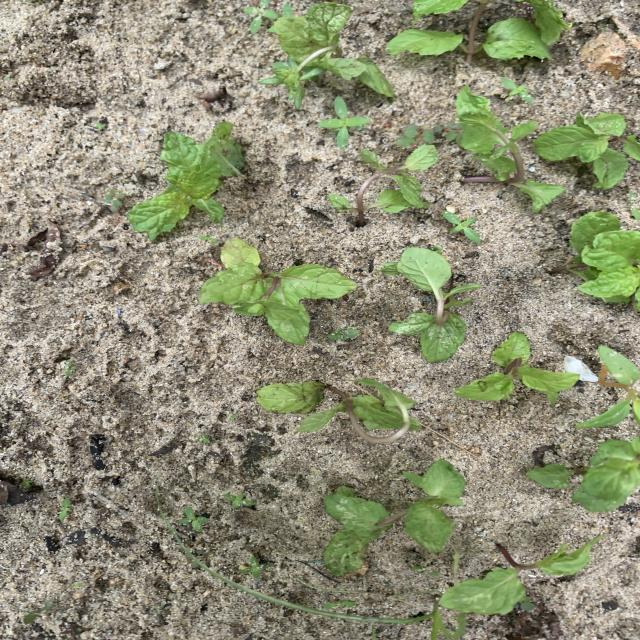crop: (199, 239, 355, 343), (323, 461, 464, 575), (260, 2, 394, 109), (128, 123, 243, 239), (456, 86, 563, 210), (440, 543, 594, 614), (384, 248, 479, 361), (390, 1, 569, 60), (256, 380, 422, 442), (526, 437, 640, 512), (456, 332, 578, 402), (553, 212, 639, 310), (329, 146, 437, 221), (536, 113, 639, 187)
weed: (195, 560, 466, 640), (576, 345, 640, 428), (319, 98, 369, 147), (443, 211, 479, 241), (245, 1, 279, 32), (397, 125, 438, 147), (501, 78, 533, 101), (180, 507, 207, 531), (240, 556, 270, 577), (434, 120, 463, 139), (223, 493, 255, 507), (104, 189, 125, 209), (328, 329, 359, 340), (301, 68, 324, 80), (59, 498, 71, 520), (412, 567, 438, 575), (63, 360, 76, 375), (324, 601, 355, 607), (519, 598, 534, 610), (200, 236, 216, 243), (197, 435, 210, 443), (95, 122, 105, 129)
